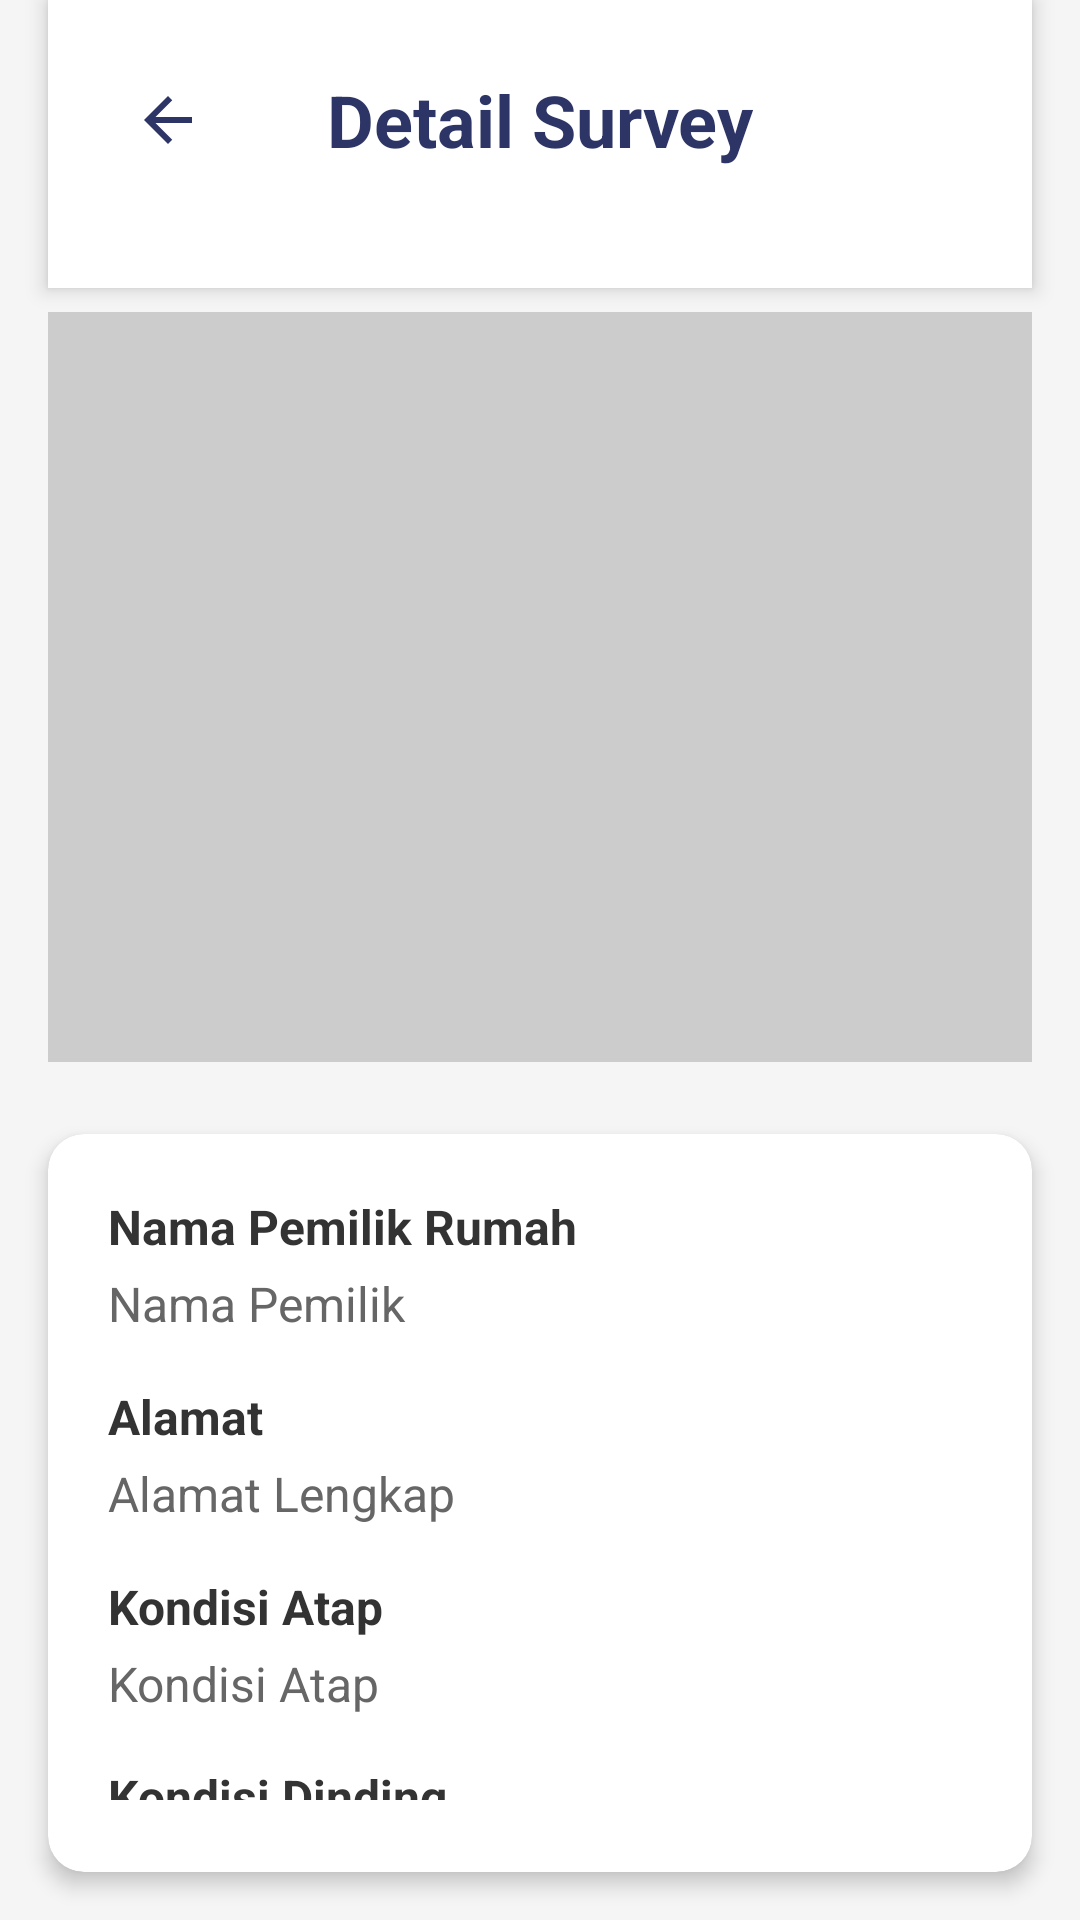

Point at icon controls on the screen. Image size 1080w x 1920h, points as point (x, y).
Kembali: point (168, 120)
